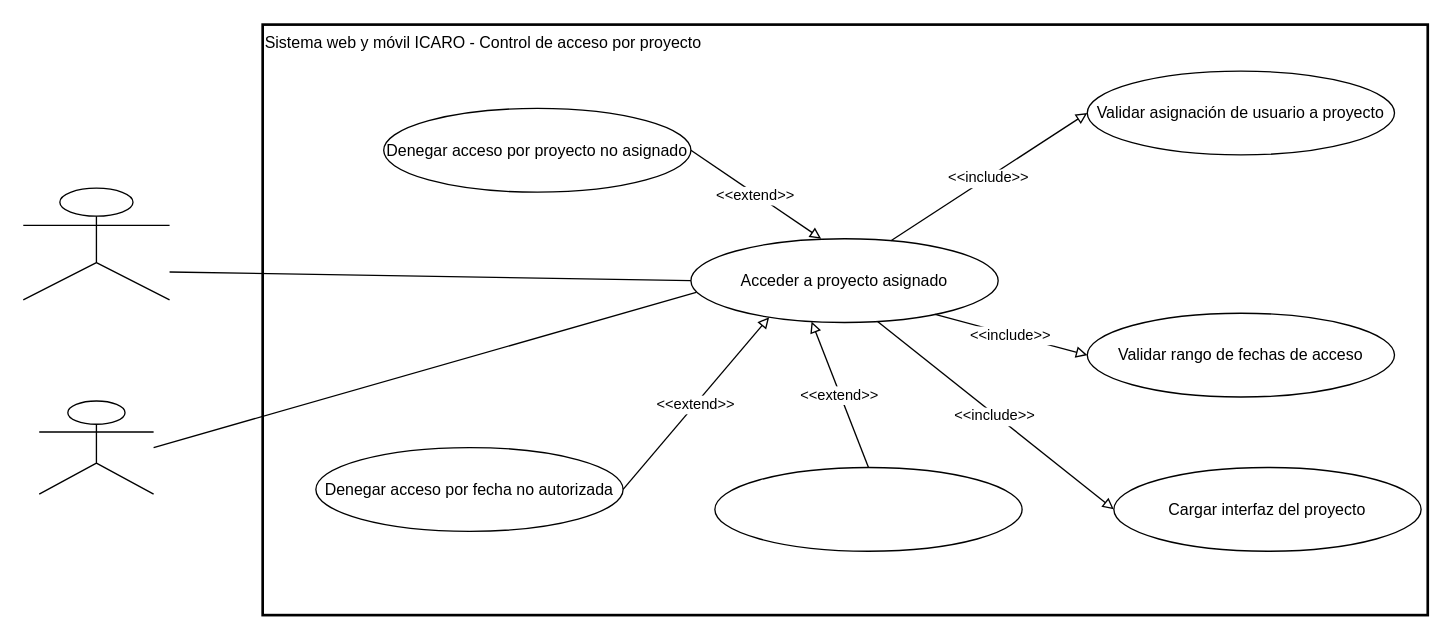
Some shapes in this 1452 by 638 pixel diagram are drawn without their labels. The centre of each missing label's shape, as x and y in pixels:
"Bodeguero" belongs at [96,447].
"Mostrar mensaje de acceso denegado" belongs at [868,508].
"Personal Técnico" belongs at [96,243].
